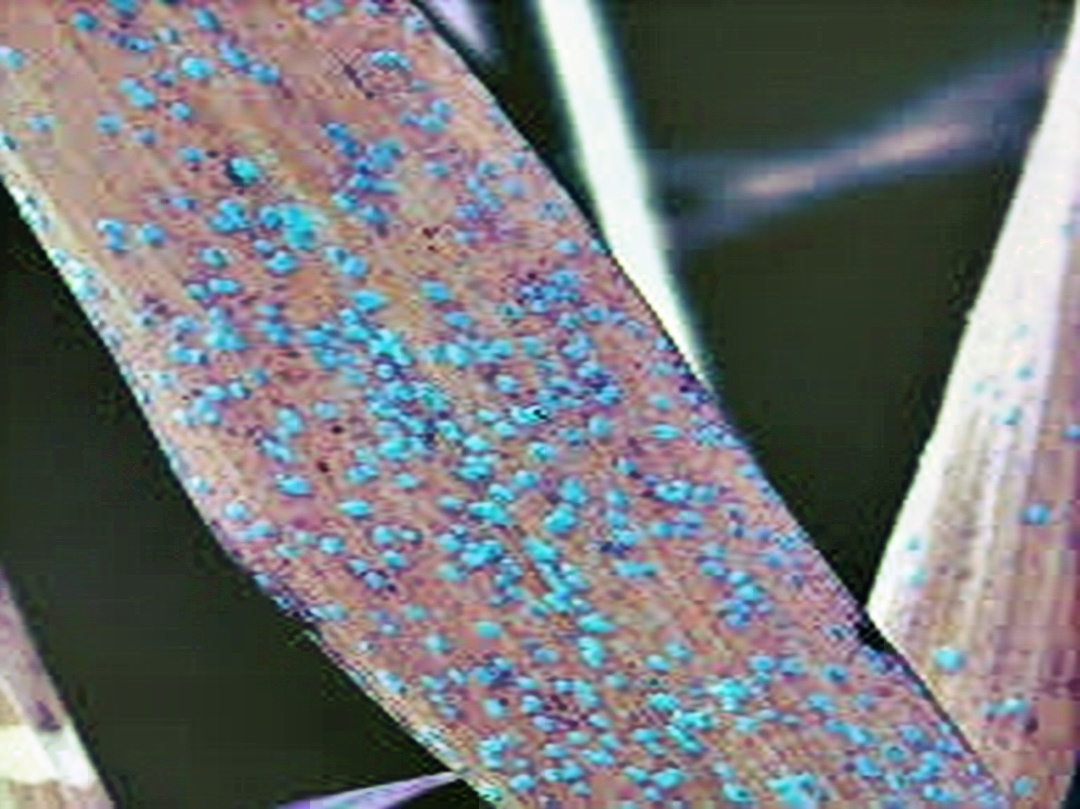Leaf Rust: (89, 51, 889, 799)
